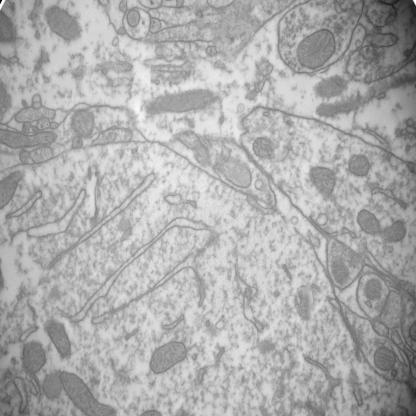mitochondria: (59, 366, 116, 416), (295, 26, 337, 71), (0, 124, 58, 152), (148, 338, 188, 376), (44, 6, 82, 42), (43, 319, 73, 359), (0, 170, 25, 212), (20, 340, 47, 377), (308, 164, 336, 199), (69, 108, 96, 139), (380, 218, 407, 248), (356, 207, 382, 238), (39, 372, 65, 402), (373, 344, 397, 373), (347, 152, 371, 179), (251, 135, 276, 160), (331, 258, 351, 284), (364, 278, 384, 302)
